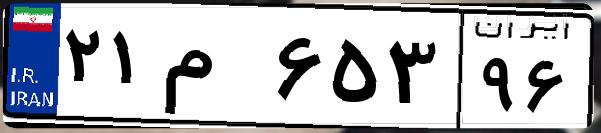1: (110, 28, 158, 98)
2: (57, 26, 110, 100)
3: (385, 28, 445, 110)
5: (330, 28, 385, 110)
6: (270, 28, 330, 110), (525, 38, 570, 115)
9: (475, 38, 525, 113)
م: (158, 20, 270, 120)
